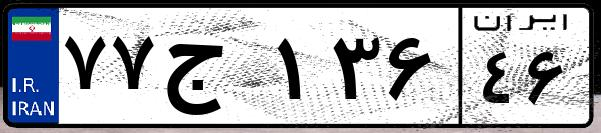1: (270, 28, 330, 110)
3: (330, 28, 385, 110)
4: (475, 38, 525, 113)
6: (385, 28, 445, 110), (525, 38, 570, 115)
7: (57, 26, 110, 100), (110, 28, 158, 98)
ج: (158, 20, 270, 120)
